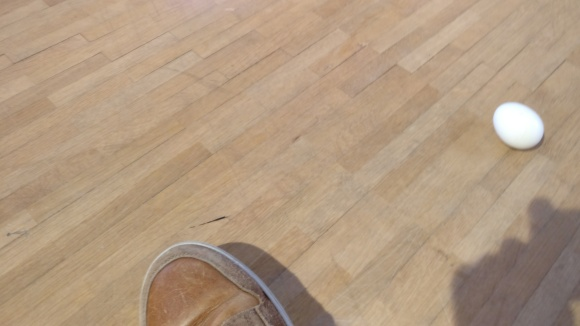egg: (492, 101, 547, 153)
